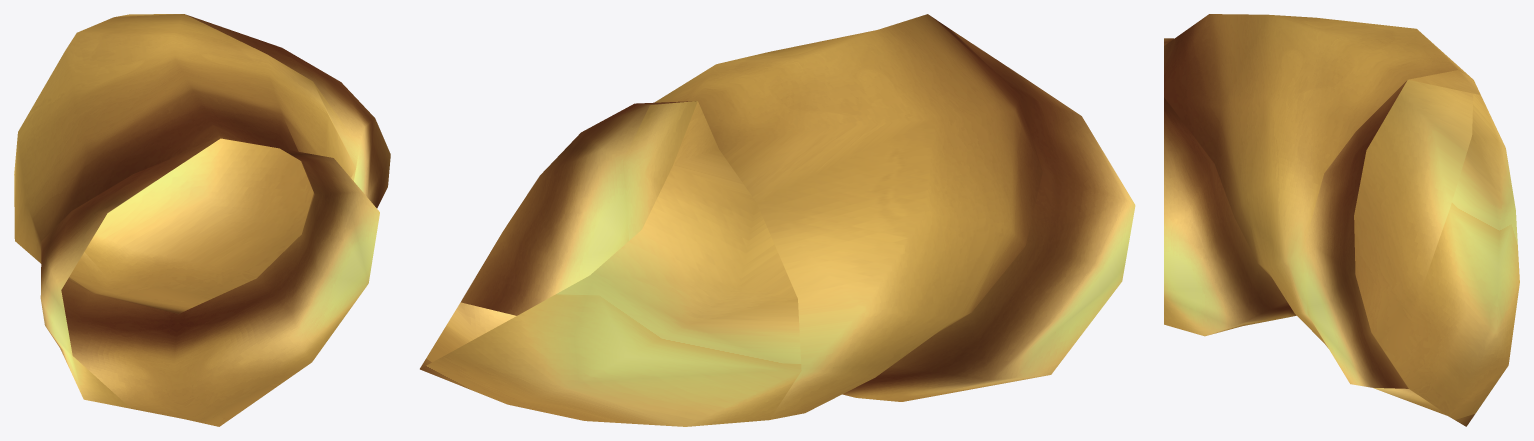
Rendered from Rope_End_02.glb.
The picture shows the model from 3 angles, left to right: view 1: azimuth 30°, elevation 25°; view 2: azimuth 150°, elevation 25°; view 3: azimuth 270°, elevation 25°; orthographic projection. The views are drawn at different scales.
Parts seen in each view (by area): view 1: Rope_End_02; view 2: Rope_End_02; view 3: Rope_End_02.
Boxes of the visible parts, x1,y1,x2,y2 form: Rope_End_02: (14,14,390,426); Rope_End_02: (420,14,1135,426); Rope_End_02: (1164,14,1519,426).
Size of the model in its own units: 0.2915 by 0.2008 by 0.2037.
1 material, 1 textured.
